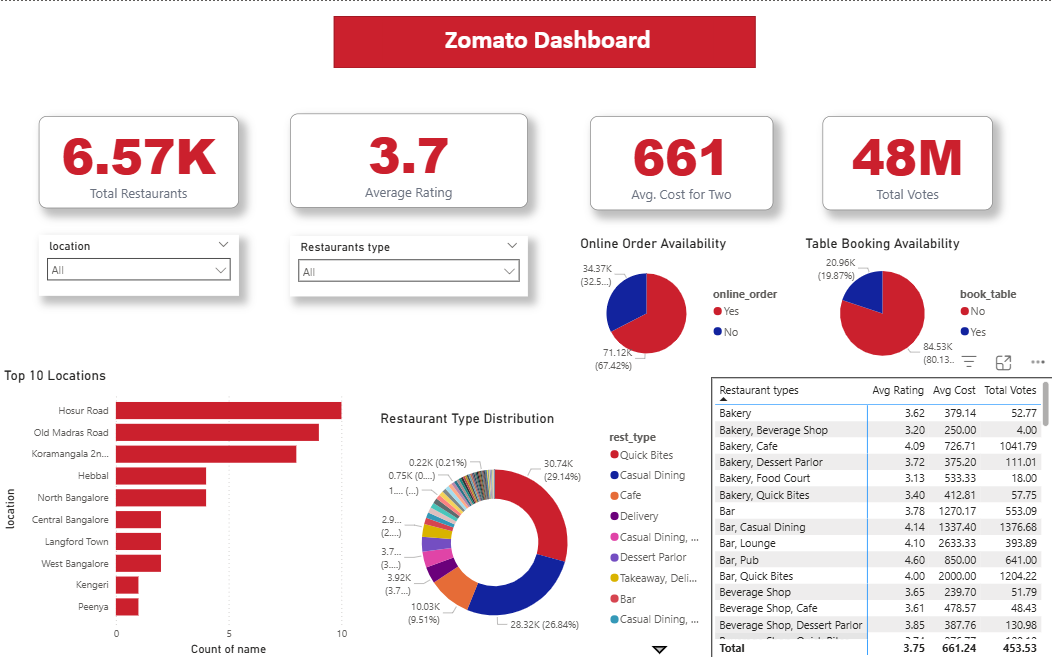

The dashboard page shown, as its layout file describes it:
{"tool":"powerbi","page":{"name":"Page 1","canvas":[1300,810],"ordinal":0},"visuals":[{"type":"card","fields":{"Values":["Count(zomato_cleaned.name)"]},"box":[47.6,141.3,246.3,113.4],"z":0},{"type":"card","fields":{"Values":["Avg(zomato_cleaned.rate)"]},"box":[356.9,138.5,292.5,116.2],"z":1000},{"type":"card","fields":{"Values":["Avg(zomato_cleaned.cost_for_two)"]},"box":[726.3,141.3,225.3,116.2],"z":2000},{"type":"card","fields":{"Values":["Sum(zomato_cleaned.votes)"]},"box":[1012.1,140.8,209.9,116.2],"z":3000},{"type":"barChart","title":"Top 10 Locations","fields":{"Category":["zomato_cleaned.location"],"Y":["Count(zomato_cleaned.name)"]},"box":[0,450.6,432.4,359.7],"z":4000},{"type":"donutChart","title":"Restaurant Type Distribution","fields":{"Category":["zomato_cleaned.rest_type"],"Y":["CountNonNull(zomato_cleaned.name)"]},"box":[463.2,502.4,412.8,307.9],"z":5000},{"type":"slicer","fields":{"Values":["zomato_cleaned.location"]},"box":[47.6,288.3,246.3,75.6],"z":6000},{"type":"slicer","fields":{"Values":["zomato_cleaned.rest_type"]},"box":[356.9,289.7,292.5,74.2],"z":7000},{"type":"shape","box":[410,18.2,519.2,64.4],"z":8000},{"type":"textbox","box":[470.2,23.8,407.2,51.8],"z":9000},{"type":"pieChart","title":"Online Order Availability","fields":{"Category":["zomato_cleaned.online_order"],"Y":["CountNonNull(zomato_cleaned.name)"]},"box":[709.5,288.3,260.3,174.9],"z":10000},{"type":"pieChart","title":"Table Booking Availability","fields":{"Category":["zomato_cleaned.book_table"],"Y":["CountNonNull(zomato_cleaned.name)"]},"box":[986.6,288.3,288.3,174.9],"z":11000},{"type":"pivotTable","fields":{"Rows":["zomato_cleaned.rest_type"],"Values":["Avg(zomato_cleaned.rate)","Avg(zomato_cleaned.cost_for_two)","Avg(zomato_cleaned.votes)"]},"box":[876.1,463.2,421.2,347.1],"z":12000}]}

Visuals, with their boxes in screenshot pixels (x1, y1, x2, y2), scaled from the page's 1300x810 canvas onto the 1052x657 screenshot:
card - Count(zomato_cleaned.name): [x1=39, y1=115, x2=238, y2=207]
card - Avg(zomato_cleaned.rate): [x1=289, y1=112, x2=526, y2=207]
card - Avg(zomato_cleaned.cost_for_two): [x1=588, y1=115, x2=770, y2=209]
card - Sum(zomato_cleaned.votes): [x1=819, y1=114, x2=989, y2=208]
"Top 10 Locations" barChart: [x1=0, y1=365, x2=350, y2=656]
"Restaurant Type Distribution" donutChart: [x1=375, y1=408, x2=709, y2=656]
slicer - zomato_cleaned.location: [x1=39, y1=234, x2=238, y2=295]
slicer - zomato_cleaned.rest_type: [x1=289, y1=235, x2=526, y2=295]
shape: [x1=332, y1=15, x2=752, y2=67]
textbox: [x1=381, y1=19, x2=710, y2=61]
"Online Order Availability" pieChart: [x1=574, y1=234, x2=785, y2=376]
"Table Booking Availability" pieChart: [x1=798, y1=234, x2=1032, y2=376]
pivotTable - zomato_cleaned.rest_type x Avg(zomato_cleaned.rate): [x1=709, y1=376, x2=1050, y2=656]
